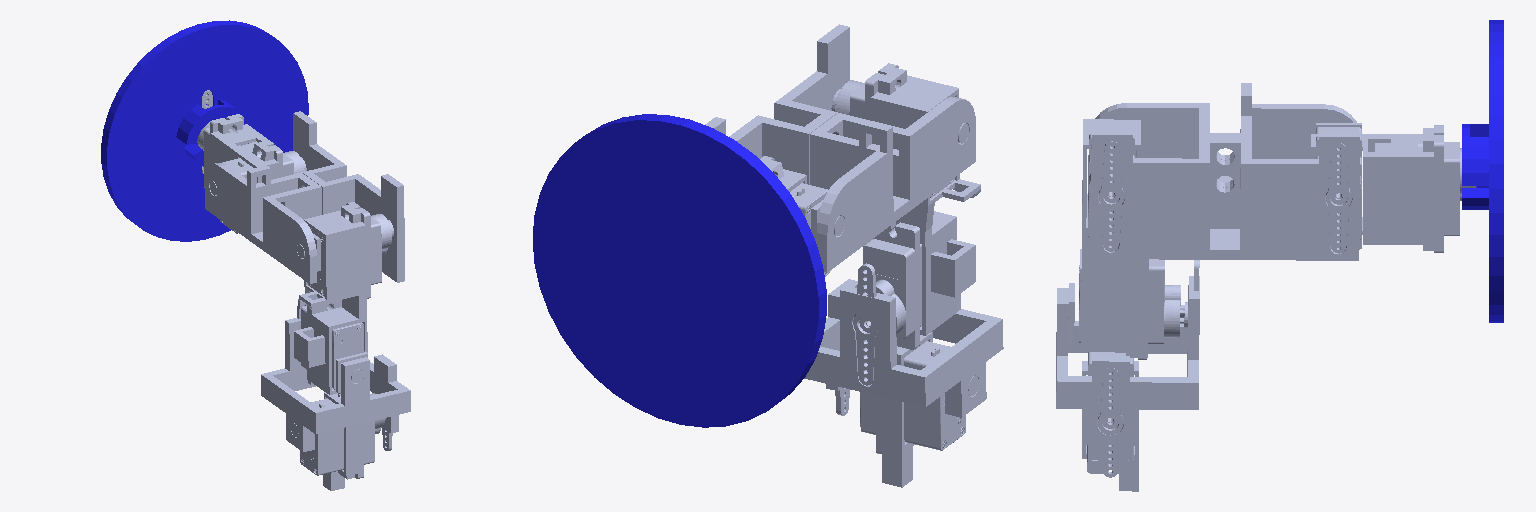
robot.urdf — Assem1:
<?xml version="1.0" encoding="utf-8"?>
<!-- This URDF was automatically created by SolidWorks to URDF Exporter! Originally created by [author] ([email redacted]) 
     Commit Version: 1.5.1-0-g916b5db  Build Version: 1.5.7152.31018
     For more information, please see http://wiki.ros.org/sw_urdf_exporter -->
<robot
  name="Assem1">
  <link
    name="base_link">
    <inertial>
      <origin
        xyz="-4.2304E-12 6.9616E-05 0.0047153"
        rpy="0 0 0" />
      <mass
        value="1" />
      <inertia
        ixx="8.15E-06"
        ixy="-2.6034E-17"
        ixz="6.2565E-17"
        iyy="8.1723E-06"
        iyz="-8.1603E-09"
        izz="1.6184E-05" />
    </inertial>
    <visual>
      <origin
        xyz="0 0 0"
        rpy="0 0 0" />
      <geometry>
        <mesh
          filename="package://Assem1/meshes/base_link.STL" />
      </geometry>
      <material
        name="">
        <color
          rgba="0.2 0.2 1 1" />
      </material>
    </visual>
    <collision>
      <origin
        xyz="0 0 0"
        rpy="0 0 0" />
      <geometry>
        <mesh
          filename="package://Assem1/meshes/base_link.STL" />
      </geometry>
    </collision>
  </link>
  <link
    name="link1">
    <inertial>
      <origin
        xyz="0.0024673 0.0048735 0.031645"
        rpy="0 0 0" />
      <mass
        value="0.0026118" />
      <inertia
        ixx="4.4135E-07"
        ixy="4.4783E-10"
        ixz="-1.8999E-08"
        iyy="2.6075E-07"
        iyz="2.9488E-10"
        izz="2.9373E-07" />
    </inertial>
    <visual>
      <origin
        xyz="0 0 0"
        rpy="0 0 0" />
      <geometry>
        <mesh
          filename="package://Assem1/meshes/link1.STL" />
      </geometry>
      <material
        name="">
        <color
          rgba="0.79216 0.81961 0.93333 1" />
      </material>
    </visual>
    <collision>
      <origin
        xyz="0 0 0"
        rpy="0 0 0" />
      <geometry>
        <mesh
          filename="package://Assem1/meshes/link1.STL" />
      </geometry>
    </collision>
  </link>
  <joint
    name="joint1"
    type="continuous">
    <origin
      xyz="0 -0.0048 0"
      rpy="-1.5708 0.0034596 -3.1416" />
    <parent
      link="base_link" />
    <child
      link="link1" />
    <axis
      xyz="0 0 1" />
    <limit
      lower="-1.5"
      upper="1.5"
      effort="0"
      velocity="1" />
    <calibration
      rising="0"
      falling="0" />
    <dynamics
      damping="0"
      friction="0" />
    <safety_controller
      soft_upper="1.5"
      soft_lower="-1.5"
      k_position="0"
      k_velocity="0" />
  </joint>
  <link
    name="link2">
    <inertial>
      <origin
        xyz="-0.00064498 0.0023315 0.029922"
        rpy="0 0 0" />
      <mass
        value="0.014861" />
      <inertia
        ixx="5.0602E-06"
        ixy="-2.3656E-08"
        ixz="7.5352E-10"
        iyy="4.6205E-06"
        iyz="-1.0579E-08"
        izz="1.4653E-06" />
    </inertial>
    <visual>
      <origin
        xyz="0 0 0"
        rpy="0 0 0" />
      <geometry>
        <mesh
          filename="package://Assem1/meshes/link2.STL" />
      </geometry>
      <material
        name="">
        <color
          rgba="0.79216 0.81961 0.93333 1" />
      </material>
    </visual>
    <collision>
      <origin
        xyz="0 0 0"
        rpy="0 0 0" />
      <geometry>
        <mesh
          filename="package://Assem1/meshes/link2.STL" />
      </geometry>
    </collision>
  </link>
  <joint
    name="joint2"
    type="continuous">
    <origin
      xyz="0 0 0.04115"
      rpy="0.0080497 0 0" />
    <parent
      link="link1" />
    <child
      link="link2" />
    <axis
      xyz="1 0 0" />
    <limit
      lower="-1.5"
      upper="1.5"
      effort="0"
      velocity="1" />
    <calibration
      rising="0"
      falling="0" />
    <dynamics
      damping="0"
      friction="0" />
    <safety_controller
      soft_upper="1.5"
      soft_lower="-1.5"
      k_position="0"
      k_velocity="0" />
  </joint>
  <link
    name="link3">
    <inertial>
      <origin
        xyz="-0.00019527 0.023341 0.0080563"
        rpy="0 0 0" />
      <mass
        value="0.0047564" />
      <inertia
        ixx="1.4991E-06"
        ixy="-1.1377E-08"
        ixz="1.3752E-09"
        iyy="2.8072E-07"
        iyz="-6.0156E-08"
        izz="1.4419E-06" />
    </inertial>
    <visual>
      <origin
        xyz="0 0 0"
        rpy="0 0 0" />
      <geometry>
        <mesh
          filename="package://Assem1/meshes/link3.STL" />
      </geometry>
      <material
        name="">
        <color
          rgba="0.79216 0.81961 0.93333 1" />
      </material>
    </visual>
    <collision>
      <origin
        xyz="0 0 0"
        rpy="0 0 0" />
      <geometry>
        <mesh
          filename="package://Assem1/meshes/link3.STL" />
      </geometry>
    </collision>
  </link>
  <joint
    name="joint3"
    type="continuous">
    <origin
      xyz="0 0 0.06"
      rpy="1.5708 1.5671 1.5708" />
    <parent
      link="link2" />
    <child
      link="link3" />
    <axis
      xyz="0 0 1" />
    <limit
      lower="-1.5"
      upper="1.5"
      effort="0"
      velocity="1" />
    <calibration
      rising="0"
      falling="0" />
    <dynamics
      damping="0"
      friction="0" />
    <safety_controller
      soft_upper="1.5"
      soft_lower="-1.5"
      k_position="0"
      k_velocity="0" />
  </joint>
  <link
    name="link4">
    <inertial>
      <origin
        xyz="-0.0024853 -0.012562 0.0047986"
        rpy="0 0 0" />
      <mass
        value="0.0050594" />
      <inertia
        ixx="1.2302E-06"
        ixy="-1.2877E-08"
        ixz="-1.4818E-08"
        iyy="1.9017E-06"
        iyz="-7.9363E-08"
        izz="1.1774E-06" />
    </inertial>
    <visual>
      <origin
        xyz="0 0 0"
        rpy="0 0 0" />
      <geometry>
        <mesh
          filename="package://Assem1/meshes/link4.STL" />
      </geometry>
      <material
        name="">
        <color
          rgba="0.79216 0.81961 0.93333 1" />
      </material>
    </visual>
    <collision>
      <origin
        xyz="0 0 0"
        rpy="0 0 0" />
      <geometry>
        <mesh
          filename="package://Assem1/meshes/link4.STL" />
      </geometry>
    </collision>
  </link>
  <joint
    name="joint4"
    type="continuous">
    <origin
      xyz="0 0.045 0.0066517"
      rpy="-1.5708 -1.5619 -1.5708" />
    <parent
      link="link3" />
    <child
      link="link4" />
    <axis
      xyz="0 0 -1" />
    <limit
      lower="-1.5"
      upper="1.5"
      effort="0"
      velocity="1" />
    <calibration
      rising="0"
      falling="0" />
    <dynamics
      damping="0"
      friction="0" />
    <safety_controller
      soft_upper="1.5"
      soft_lower="-1.5"
      k_position="0"
      k_velocity="0" />
  </joint>
  <link
    name="link5">
    <inertial>
      <origin
        xyz="0.0009532 0.016326 0.0018262"
        rpy="0 0 0" />
      <mass
        value="0.0011428" />
      <inertia
        ixx="1.2578E-07"
        ixy="-1.5787E-08"
        ixz="-2.9736E-10"
        iyy="3.1001E-08"
        iyz="-5.7931E-10"
        izz="1.5131E-07" />
    </inertial>
    <visual>
      <origin
        xyz="0 0 0"
        rpy="0 0 0" />
      <geometry>
        <mesh
          filename="package://Assem1/meshes/link5.STL" />
      </geometry>
      <material
        name="">
        <color
          rgba="0.79216 0.81961 0.93333 1" />
      </material>
    </visual>
    <collision>
      <origin
        xyz="0 0 0"
        rpy="0 0 0" />
      <geometry>
        <mesh
          filename="package://Assem1/meshes/link5.STL" />
      </geometry>
    </collision>
  </link>
  <joint
    name="joint5"
    type="continuous">
    <origin
      xyz="0 -0.01325 0.00042306"
      rpy="1.5708 -1.562 1.5708" />
    <parent
      link="link4" />
    <child
      link="link5" />
    <axis
      xyz="0 0 1" />
    <limit
      lower="-1.5"
      upper="1.5"
      effort="0"
      velocity="1" />
    <calibration
      rising="0"
      falling="0" />
    <dynamics
      damping="0"
      friction="0" />
    <safety_controller
      soft_upper="1.5"
      soft_lower="-1.5"
      k_position="0"
      k_velocity="0" />
  </joint>
</robot>

--- Facts derived from the render (not from the file) ---
The picture shows the robot from 3 angles, left to right: view 1: azimuth 30°, elevation 25°; view 2: azimuth 150°, elevation 25°; view 3: azimuth 270°, elevation 25°; orthographic projection.
Model Assem1 with 6 links and 5 joints (5 continuous), rooted at base_link, posed every joint at zero.
Visible links, largest first — view 1: base_link, link2, link3, link4, link1, link5; view 2: base_link, link2, link3, link4, link5, link1; view 3: link2, link1, link3, link4, base_link, link5.
Link boxes in pixels (bbox=[...]): base_link: bbox=[101, 20, 308, 241]; link2: bbox=[205, 111, 404, 283]; link3: bbox=[294, 202, 393, 394]; link4: bbox=[261, 318, 410, 451]; link1: bbox=[197, 90, 306, 233]; link5: bbox=[291, 392, 392, 490]; base_link: bbox=[533, 114, 826, 427]; link2: bbox=[705, 24, 975, 272]; link3: bbox=[831, 63, 980, 385]; link4: bbox=[804, 279, 1003, 417]; link5: bbox=[835, 332, 978, 487]; link1: bbox=[760, 156, 844, 276]; link2: bbox=[1091, 83, 1359, 260]; link1: bbox=[1311, 123, 1475, 253]; link3: bbox=[1068, 119, 1199, 359]; link4: bbox=[1056, 276, 1199, 445]; base_link: bbox=[1462, 20, 1503, 322]; link5: bbox=[1082, 352, 1138, 491].
Bounding box of the posed robot: 0.0799 × 0.1182 × 0.1342 m (x, y, z).
6 mesh visuals loaded from 6 distinct referenced files (6 binary STL).
